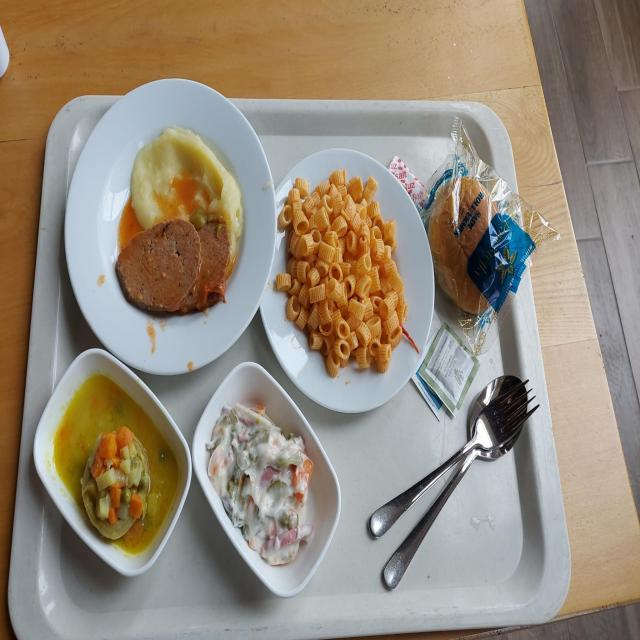ana_yemek: (64, 76, 270, 372), (266, 148, 410, 414)
yan_yemek: (31, 350, 190, 572), (190, 363, 331, 596)
